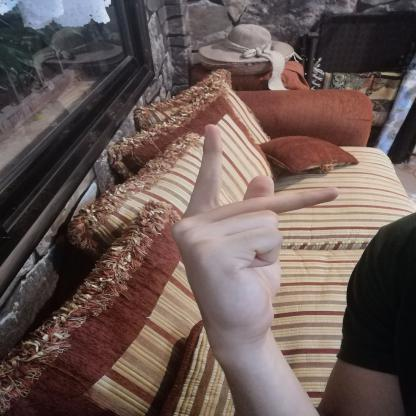DHAA: (159, 114, 349, 348)
